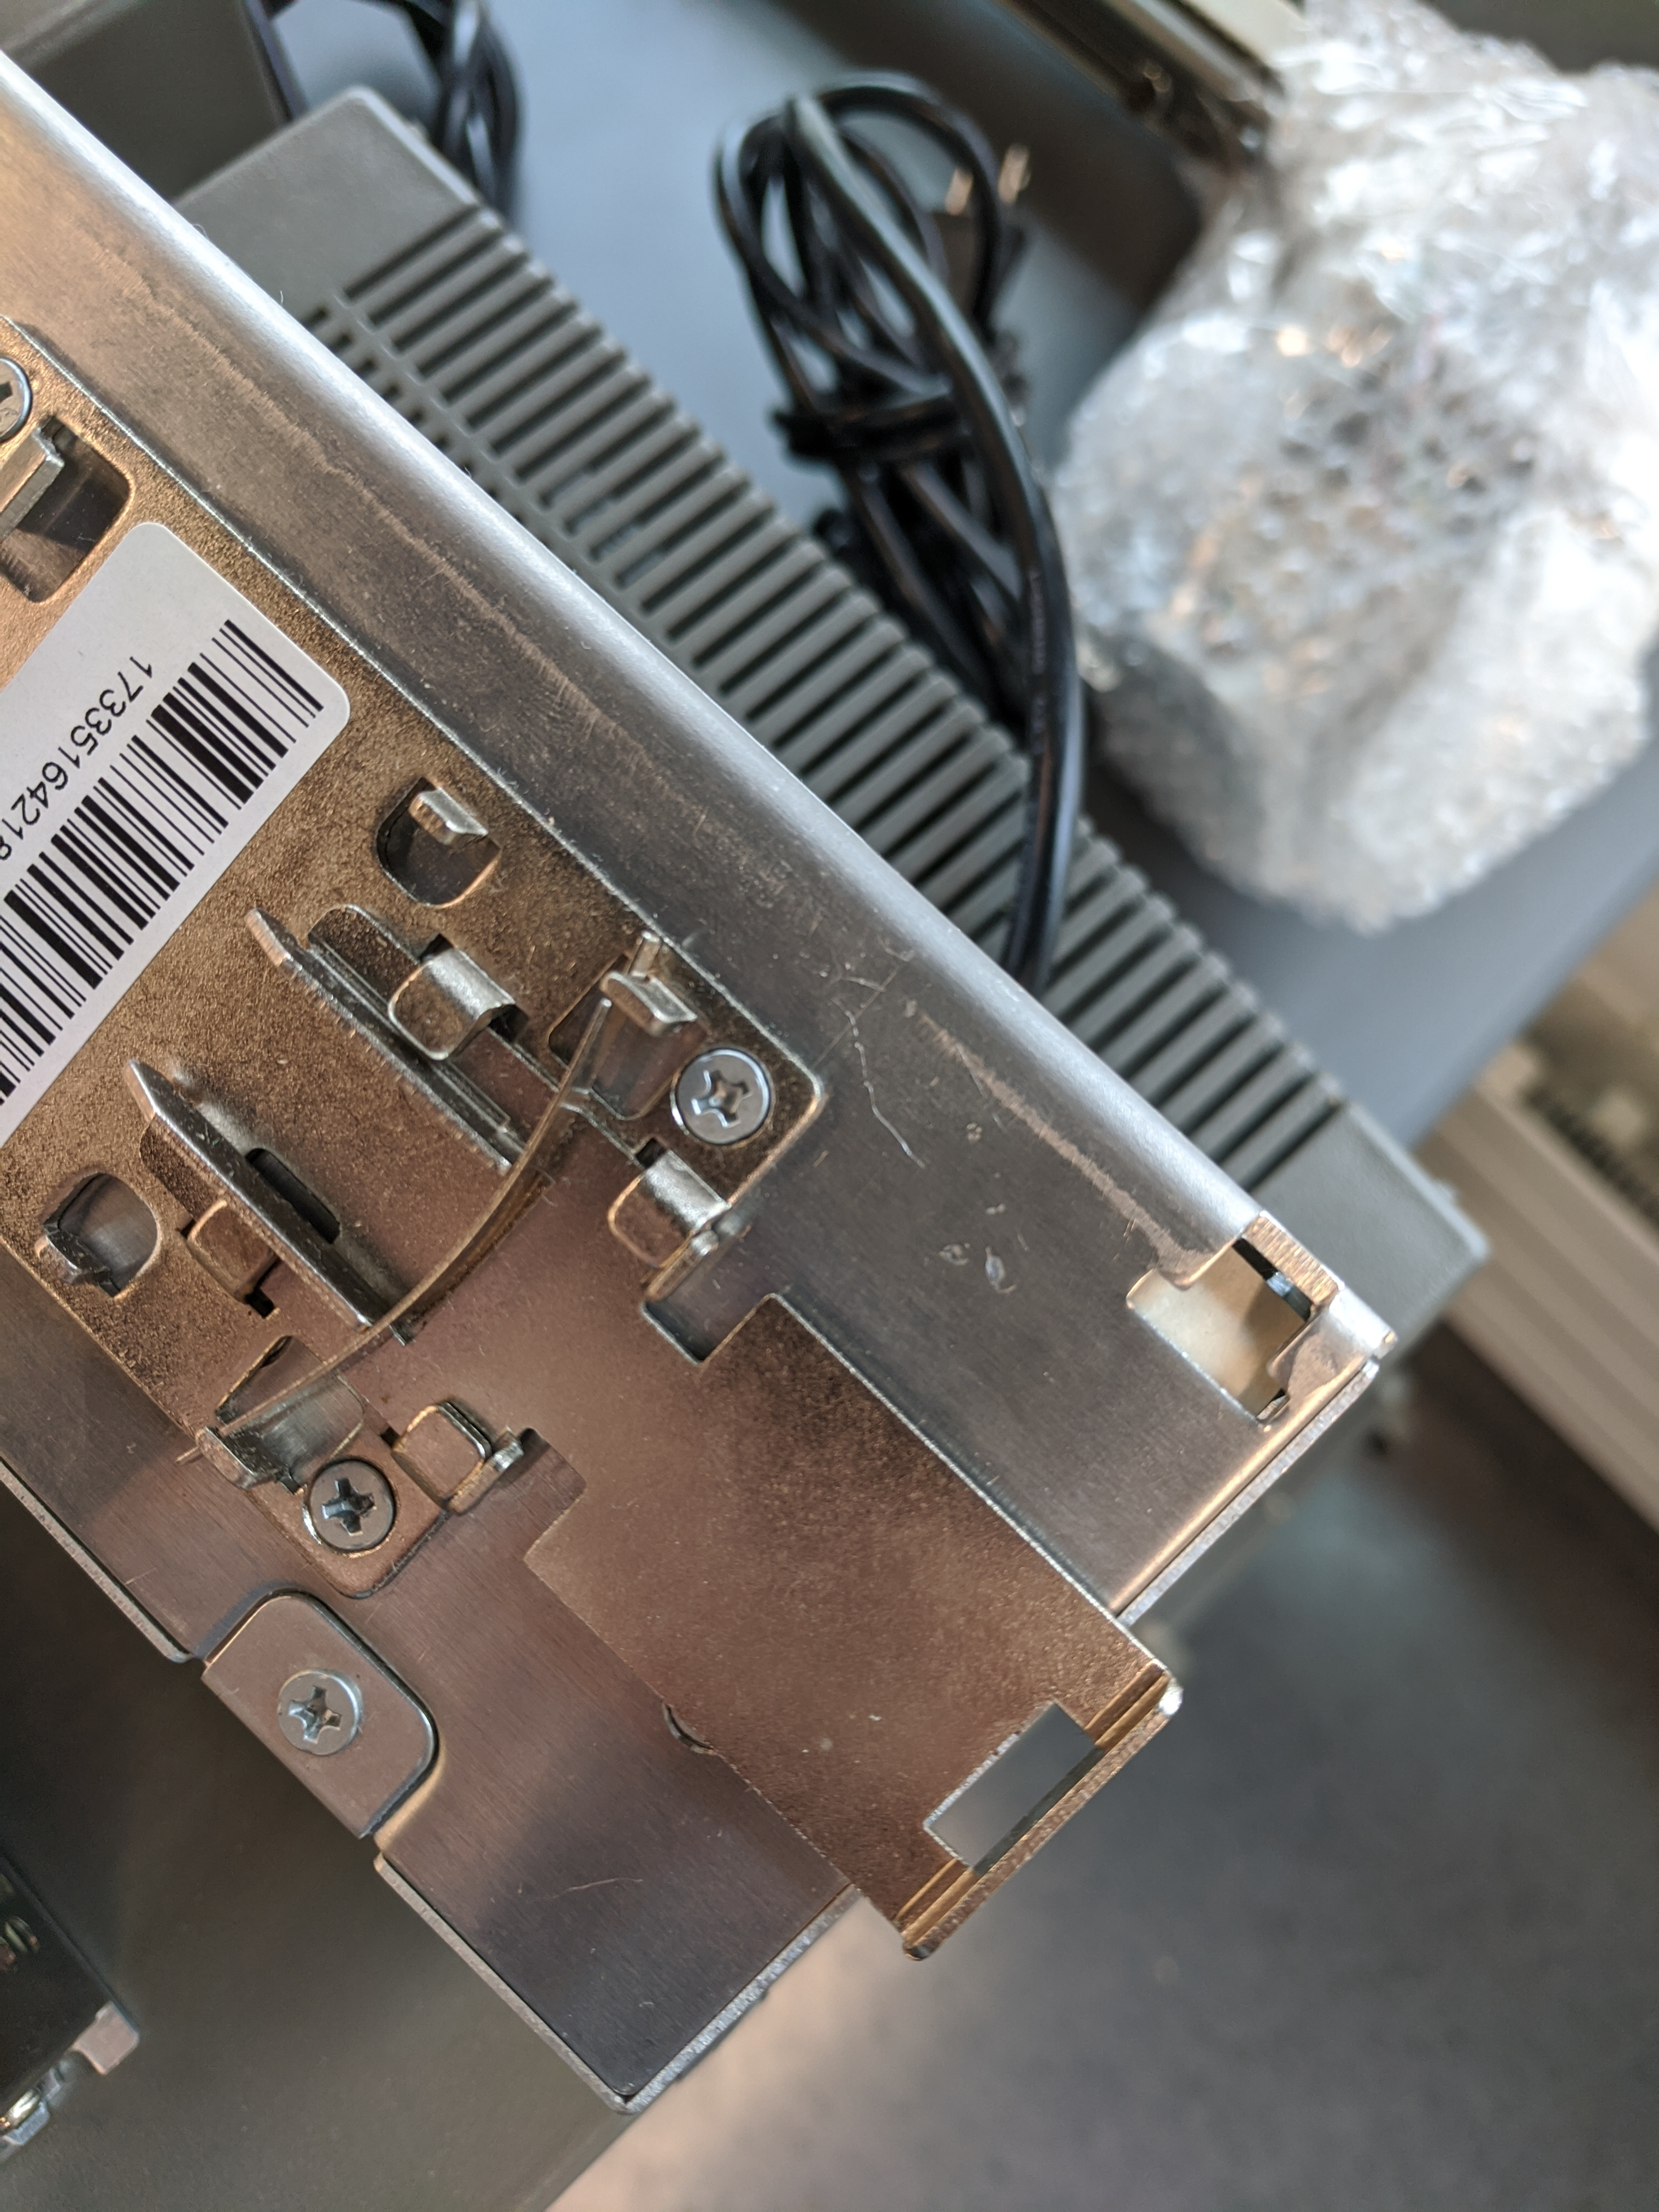cross_recessed_screw: (641, 1029, 788, 1148), (295, 1446, 390, 1557), (267, 1658, 361, 1757)
